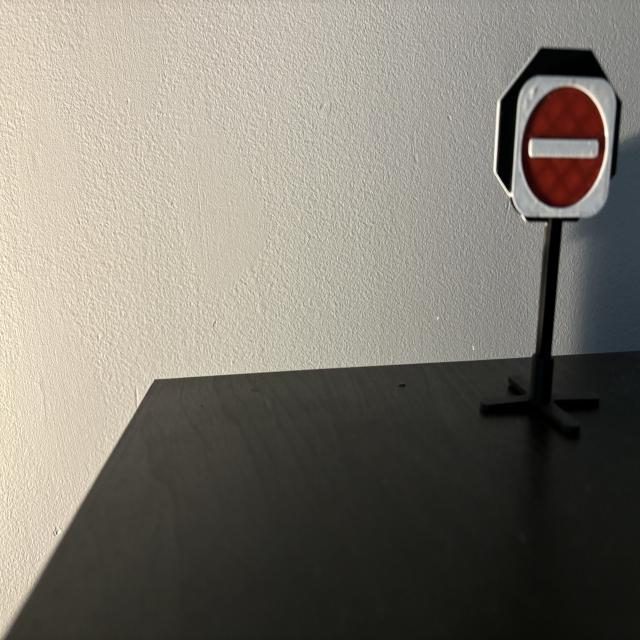sign_noentry: (514, 77, 617, 219)
